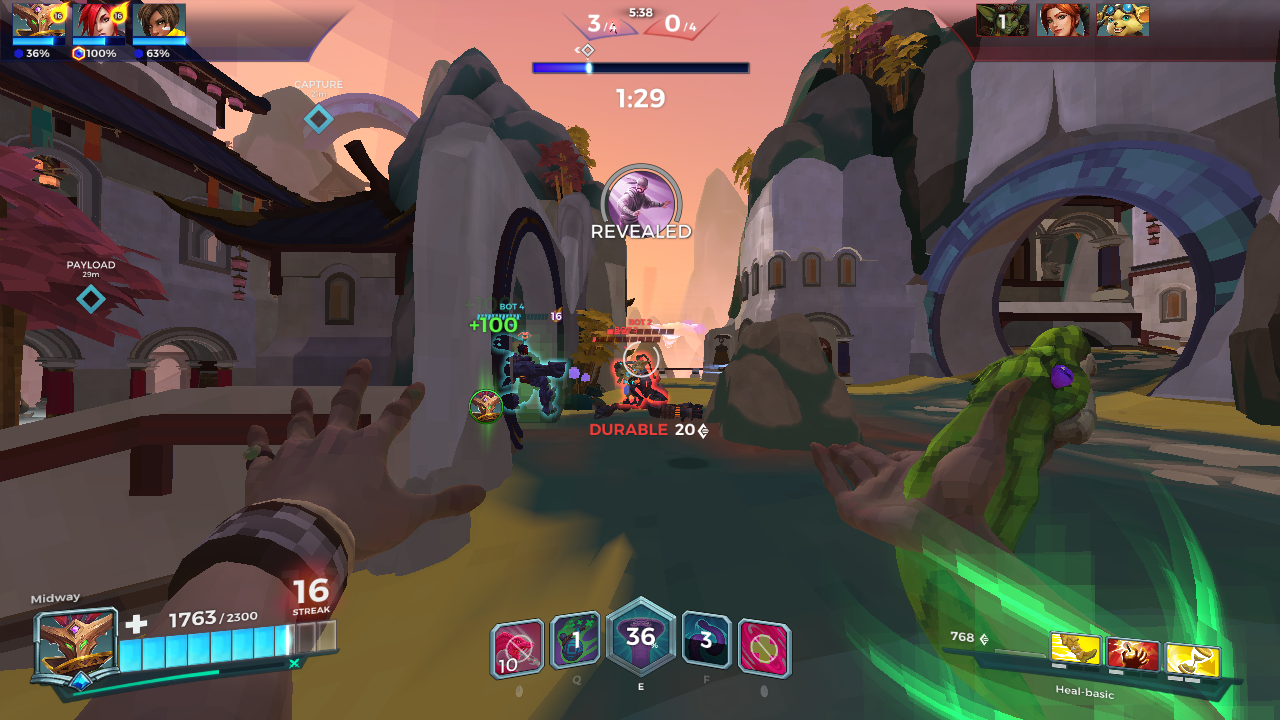model: (611, 356, 648, 410)
